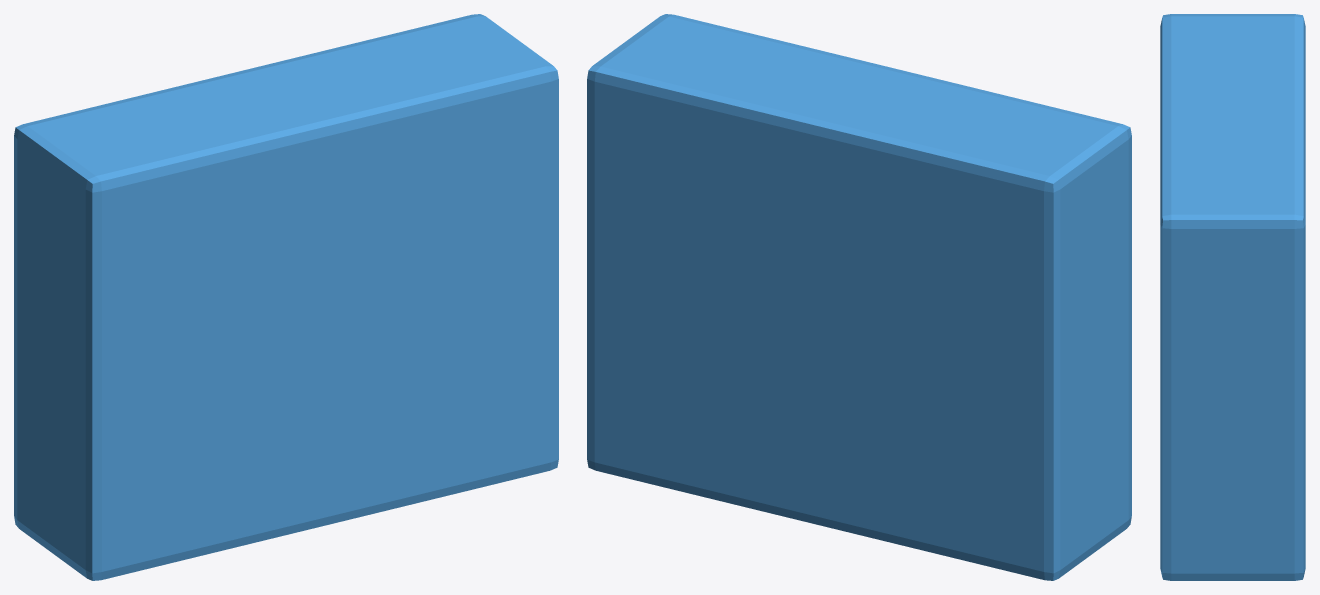
File: back__rear_core__base.glb
3 renders of one model, left to right at view 1: azimuth 30°, elevation 25°; view 2: azimuth 150°, elevation 25°; view 3: azimuth 270°, elevation 25°, orthographic. The views are drawn at different scales.
Visible parts, largest first — view 1: armor_back__rear_core__base_v001; view 2: armor_back__rear_core__base_v001; view 3: armor_back__rear_core__base_v001.
Part boxes in pixels (x1,y1,x2,y2): armor_back__rear_core__base_v001: (14, 14, 558, 580); armor_back__rear_core__base_v001: (587, 14, 1131, 580); armor_back__rear_core__base_v001: (1160, 14, 1305, 580).
Size of the model in its own units: 0.1364 by 0.1116 by 0.0403.
